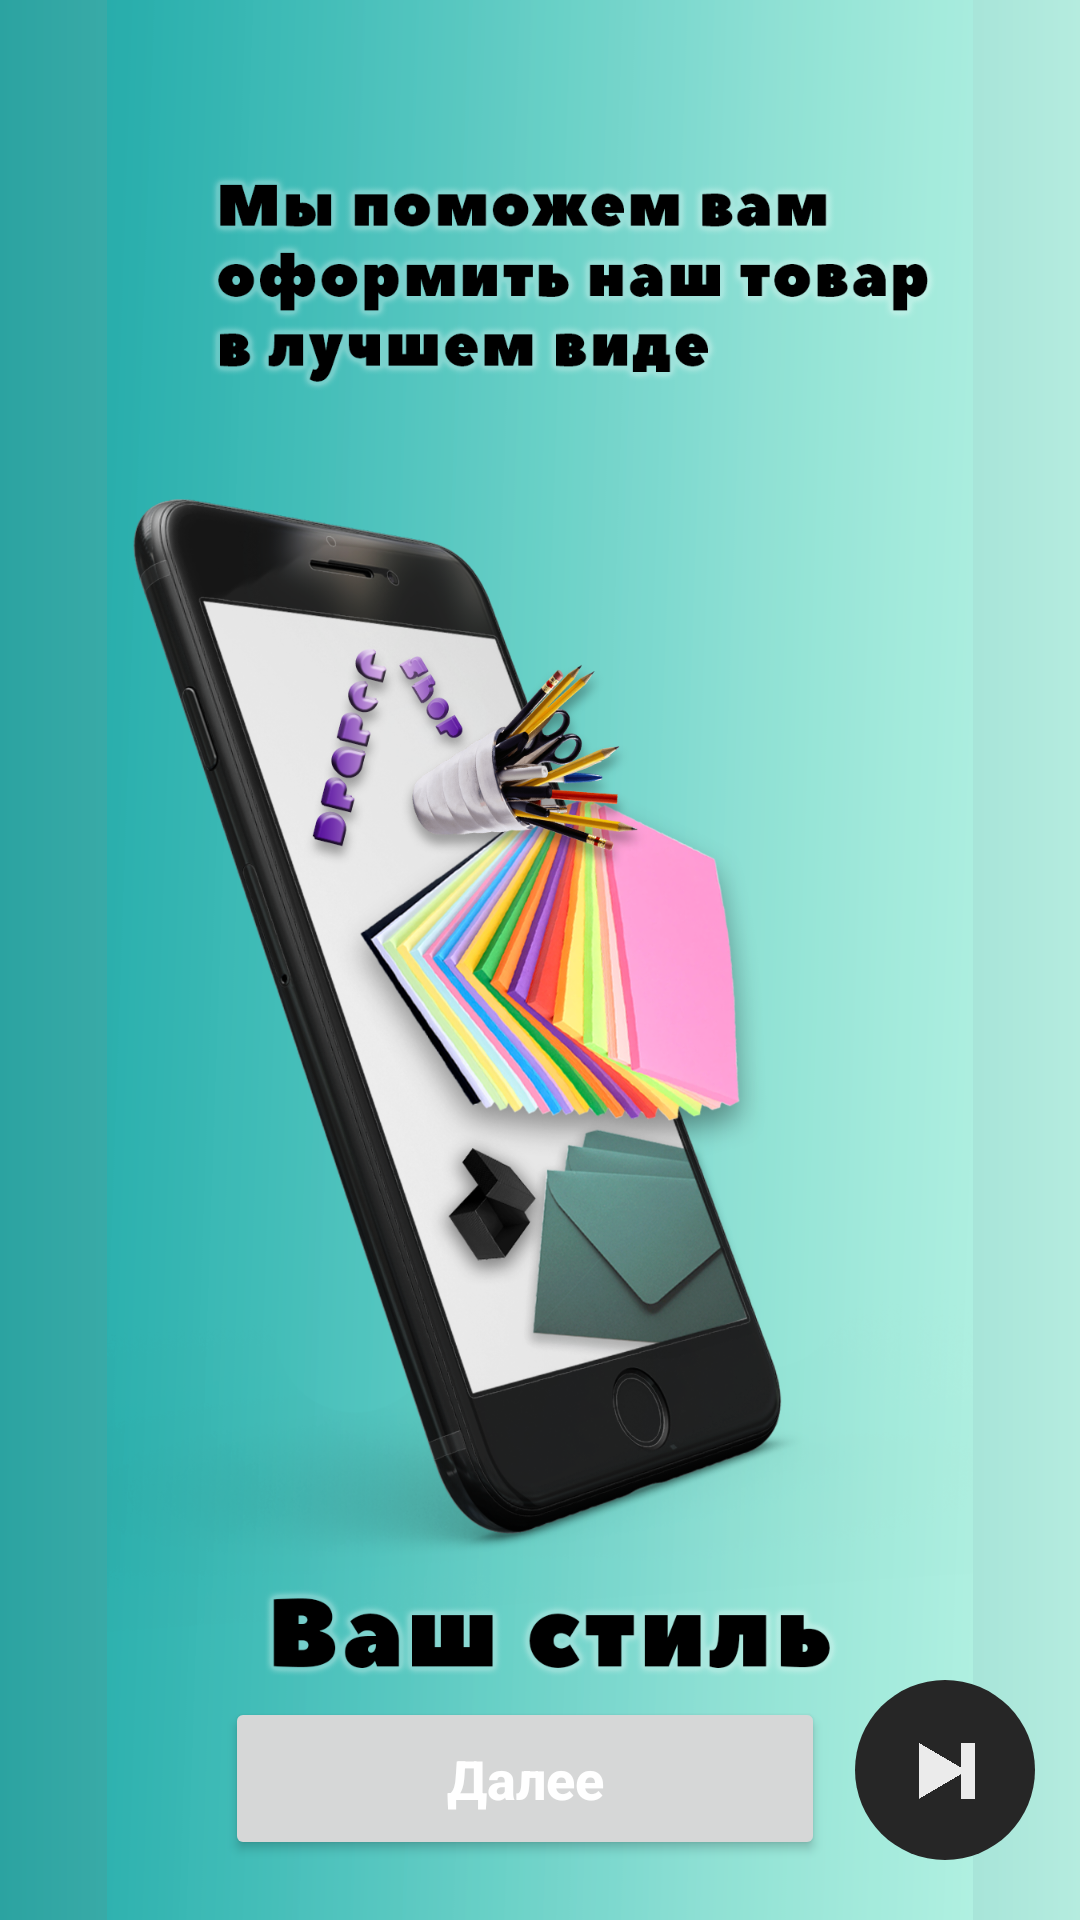

Named icons in this screenshot (1080 × 1920) and their centers, point (x, y):
skip: point (945, 1770)
